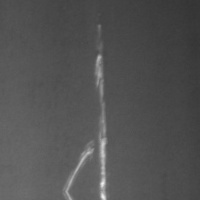scratches: (90, 18, 113, 190), (55, 136, 98, 191)
